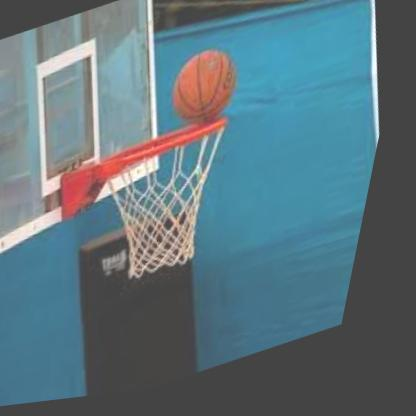basketball: (166, 48, 251, 136)
rim: (87, 117, 263, 295)
